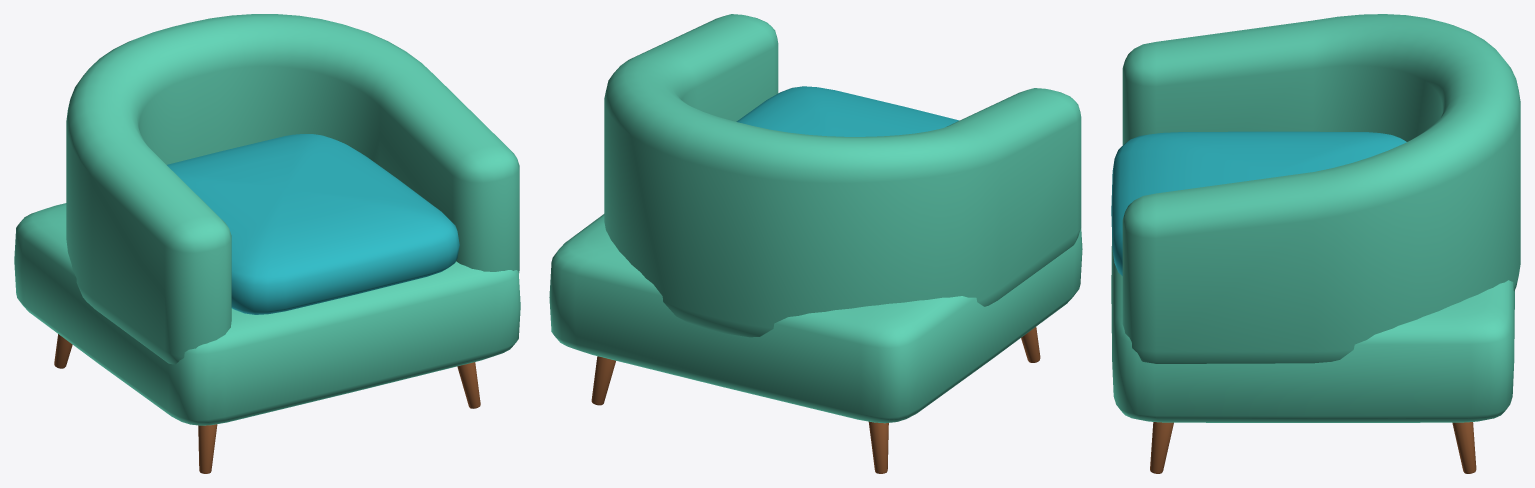
File: poltrona_barril_verde_agua.glb
The picture shows the model from 3 angles, left to right: view 1: azimuth 30°, elevation 25°; view 2: azimuth 150°, elevation 25°; view 3: azimuth 270°, elevation 25°; orthographic projection. The views are drawn at different scales.
Visible parts, largest first — view 1: poltrona_barril_verde_agua; view 2: poltrona_barril_verde_agua; view 3: poltrona_barril_verde_agua.
Boxes of the visible parts, box(x1,y1,x2,y2) form: poltrona_barril_verde_agua: box(14, 14, 520, 473); poltrona_barril_verde_agua: box(549, 14, 1082, 473); poltrona_barril_verde_agua: box(1111, 14, 1520, 473).
Bounding box in the file's own units: 0.78 × 0.6395 × 0.73.
Materials: 1 (1 with a texture image).
